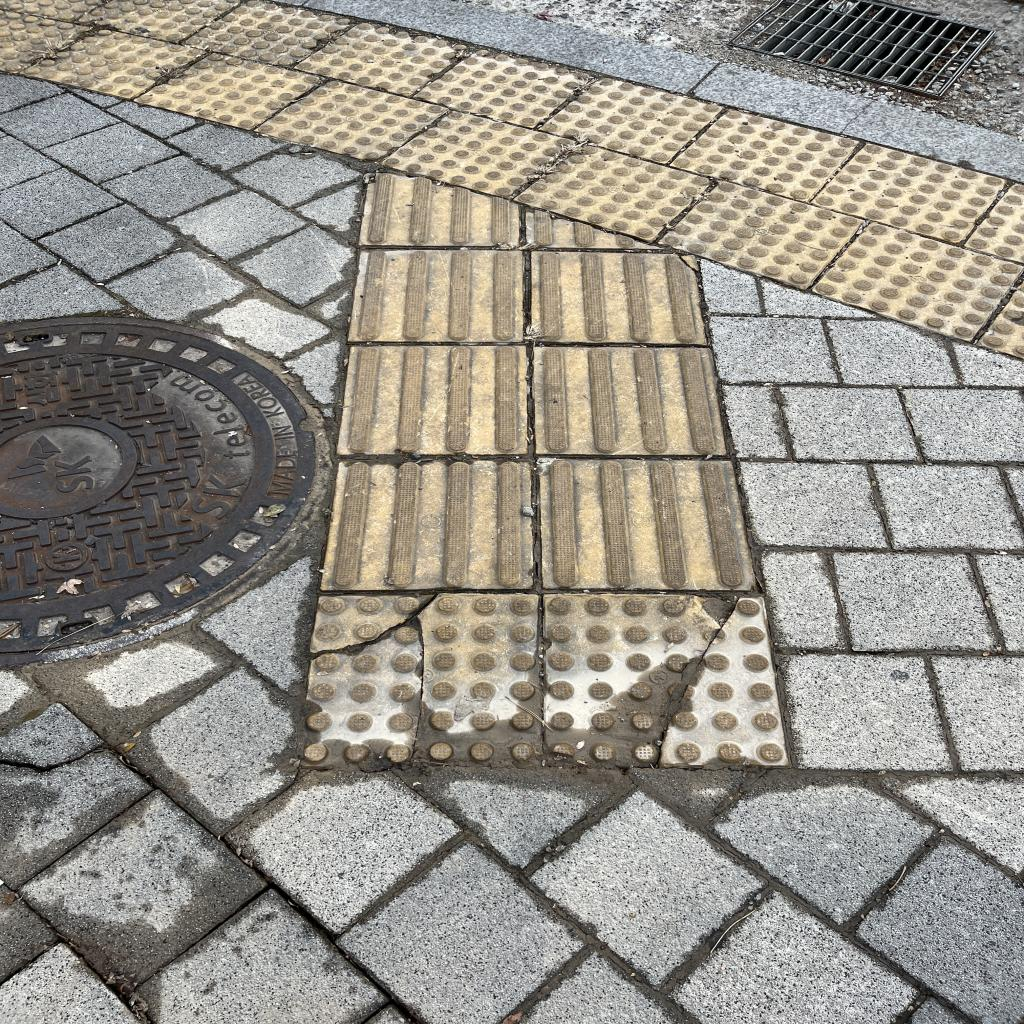Stop block broken: (302, 594, 541, 767), (545, 595, 787, 765)
Stop block normal: (380, 96, 575, 211), (668, 98, 859, 211), (134, 37, 323, 143)
Straight block normal: (338, 346, 526, 454)
